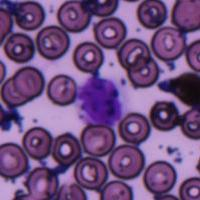M: (75, 74, 132, 127)
